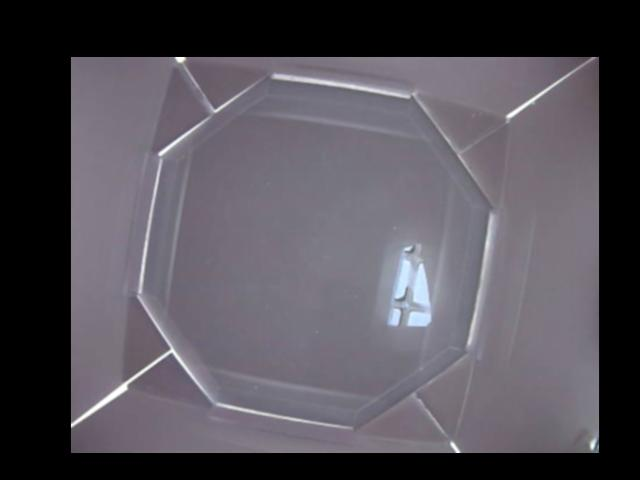China: (387, 245, 434, 325)
